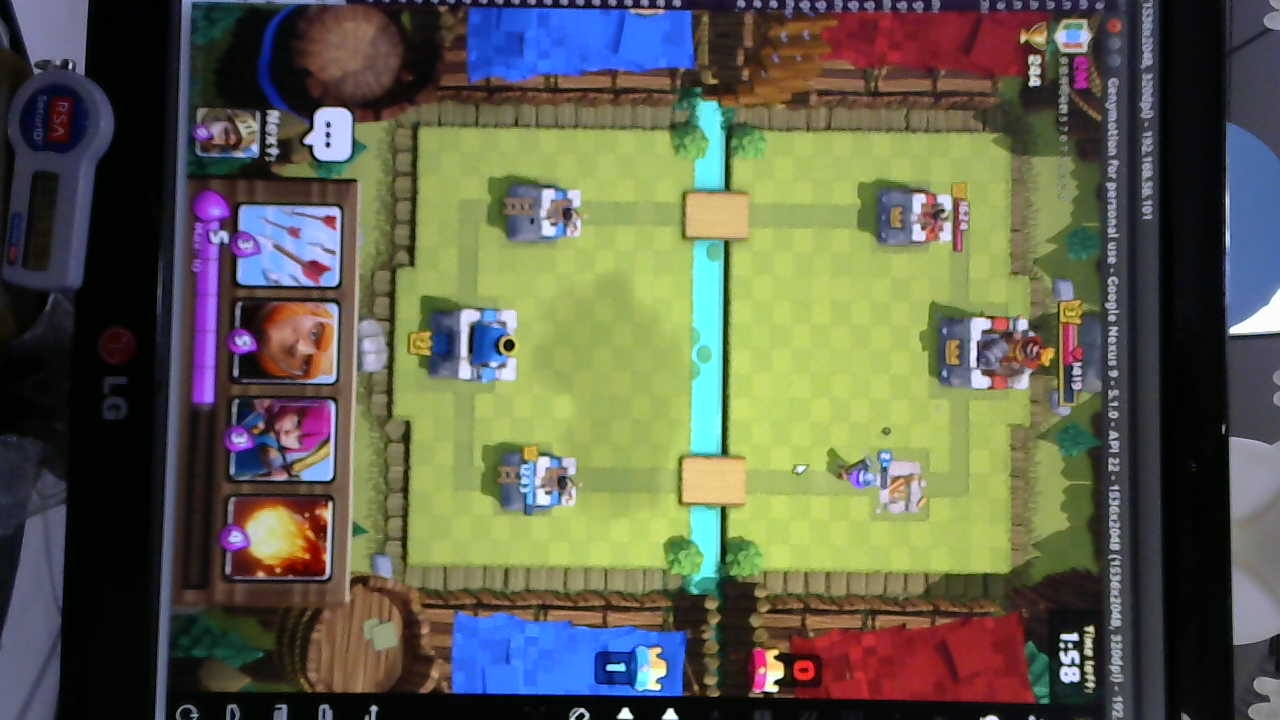arena: (496, 449, 583, 512), (505, 180, 587, 245)
darena: (872, 455, 933, 519)
earena: (871, 189, 956, 248)
eking: (934, 310, 1048, 393)
king: (435, 304, 522, 385)
musketeer: (835, 451, 880, 493)
